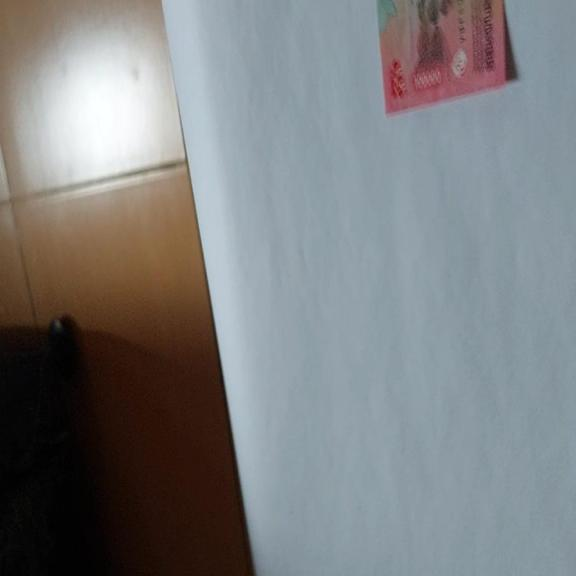Kertas: (375, 0, 510, 116)
